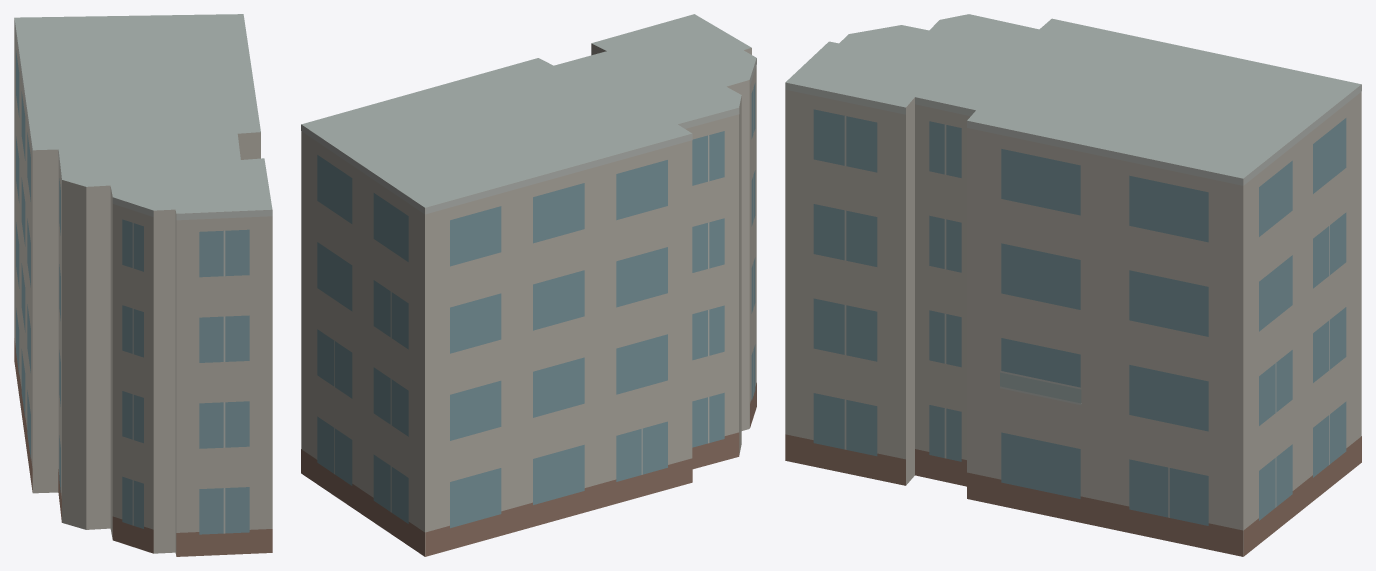
File: survey-upis-32892615.glb
3 views of the same model, side by side, from view 1: azimuth 30°, elevation 25°; view 2: azimuth 150°, elevation 25°; view 3: azimuth 270°, elevation 25° (orthographic). The views are drawn at different scales.
Parts seen in each view (by area): view 1: survey-upis-32892615.tmp; view 2: survey-upis-32892615.tmp; view 3: survey-upis-32892615.tmp.
Part boxes in pixels (x1,y1,x2,y2): survey-upis-32892615.tmp: [14, 14, 272, 556]; survey-upis-32892615.tmp: [301, 14, 756, 556]; survey-upis-32892615.tmp: [785, 14, 1361, 556].
Size of the model in its own units: 11.96 by 12.8 by 17.69.
